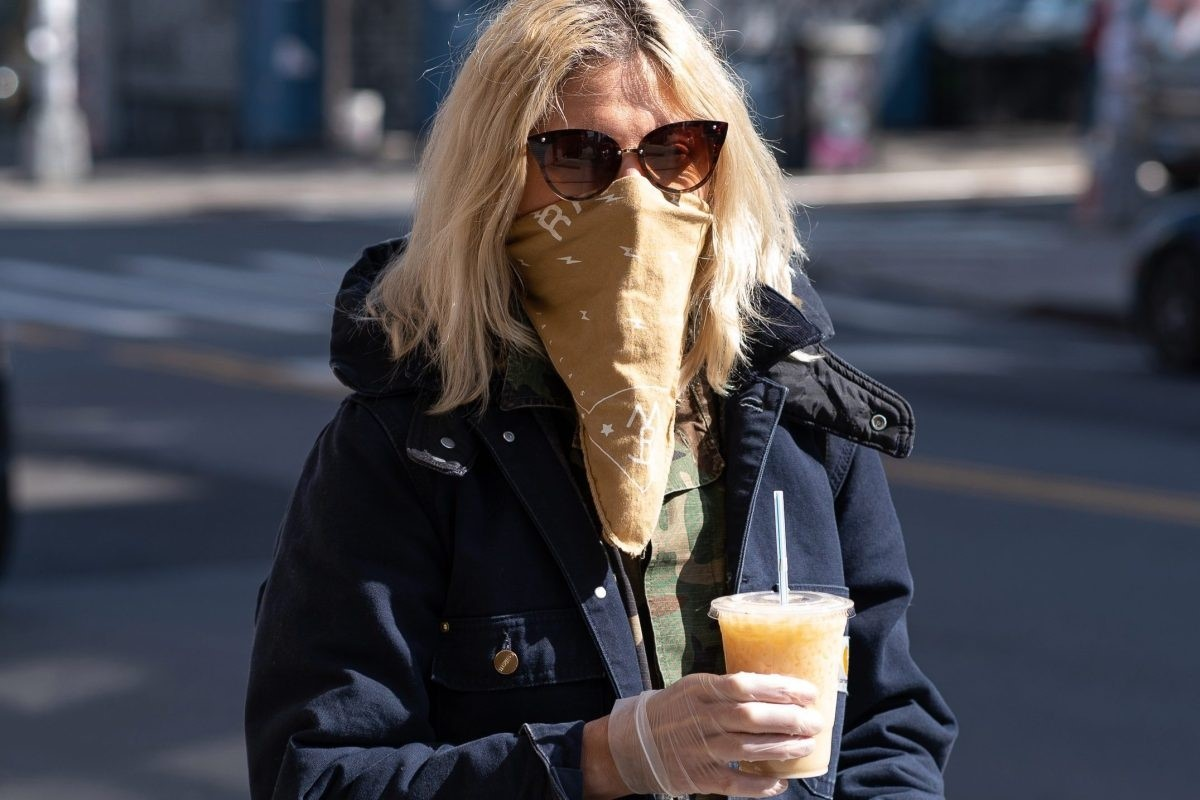face_with_mask: (458, 3, 733, 382)
